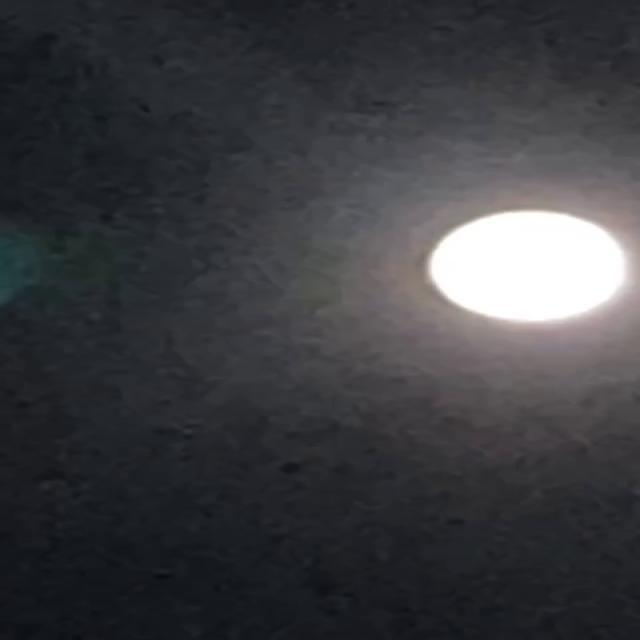moon: (430, 180, 640, 301)
